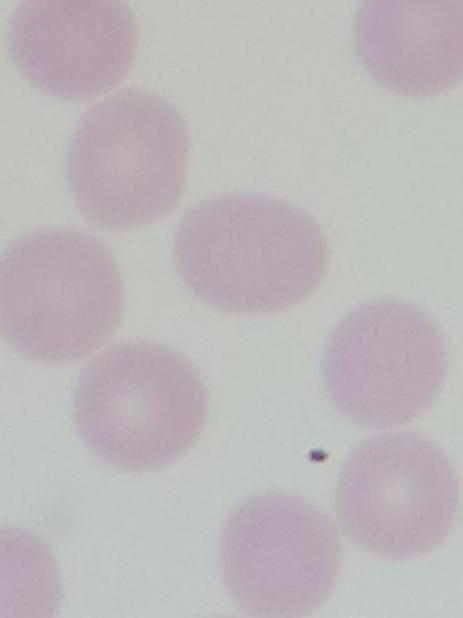Uninfected: (175, 194, 327, 314), (72, 341, 206, 471), (66, 93, 190, 226), (1, 229, 125, 362), (320, 302, 447, 426), (335, 432, 459, 558), (218, 494, 340, 615), (6, 0, 140, 97), (353, 0, 463, 101)
